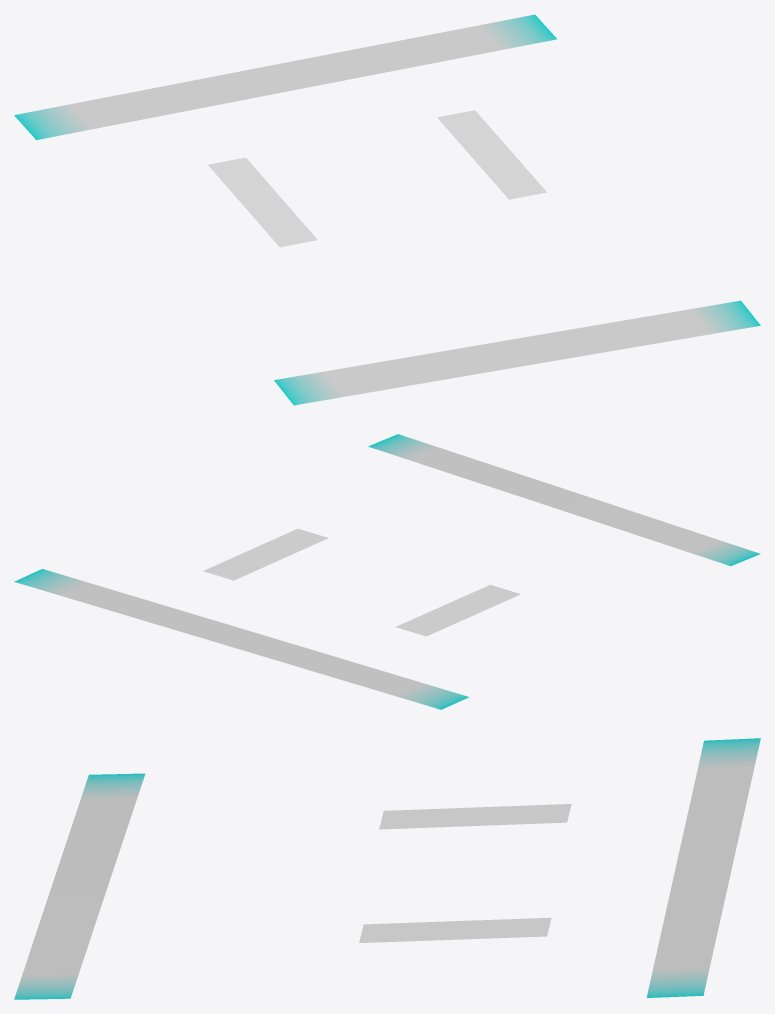
The model's file is cell_155_114.fbx.
The picture shows the model from 3 angles, top to bottom: view 1: azimuth 30°, elevation 25°; view 2: azimuth 150°, elevation 25°; view 3: azimuth 270°, elevation 25°; orthographic projection. The views are drawn at different scales.
Visible parts, largest first — view 1: SpaceCenter_Long3_GenerateRoad_Asphalt_PCGMesh_Decal_Mesh_x9, SpaceCenter_Long3_GenerateRoad_JTDecal_Asphalt_BM_Line_Mesh_; view 2: SpaceCenter_Long3_GenerateRoad_Asphalt_PCGMesh_Decal_Mesh_x9, SpaceCenter_Long3_GenerateRoad_JTDecal_Asphalt_BM_Line_Mesh_; view 3: SpaceCenter_Long3_GenerateRoad_Asphalt_PCGMesh_Decal_Mesh_x9, SpaceCenter_Long3_GenerateRoad_JTDecal_Asphalt_BM_Line_Mesh_.
Part boxes in pixels (box(x1,y1,x2,y2)): SpaceCenter_Long3_GenerateRoad_Asphalt_PCGMesh_Decal_Mesh_x9: box(14, 14, 760, 405); SpaceCenter_Long3_GenerateRoad_JTDecal_Asphalt_BM_Line_Mesh_: box(208, 110, 546, 247); SpaceCenter_Long3_GenerateRoad_Asphalt_PCGMesh_Decal_Mesh_x9: box(14, 434, 760, 709); SpaceCenter_Long3_GenerateRoad_JTDecal_Asphalt_BM_Line_Mesh_: box(203, 528, 520, 636); SpaceCenter_Long3_GenerateRoad_Asphalt_PCGMesh_Decal_Mesh_x9: box(14, 738, 760, 999); SpaceCenter_Long3_GenerateRoad_JTDecal_Asphalt_BM_Line_Mesh_: box(359, 804, 571, 942).
Bounding box in the file's own units: 11.41 × 1.06 × 13.07.
